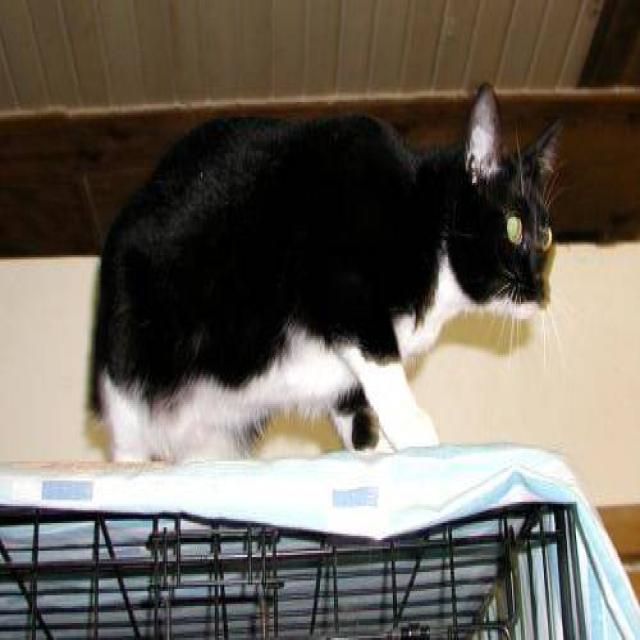cat: (84, 79, 566, 464)
